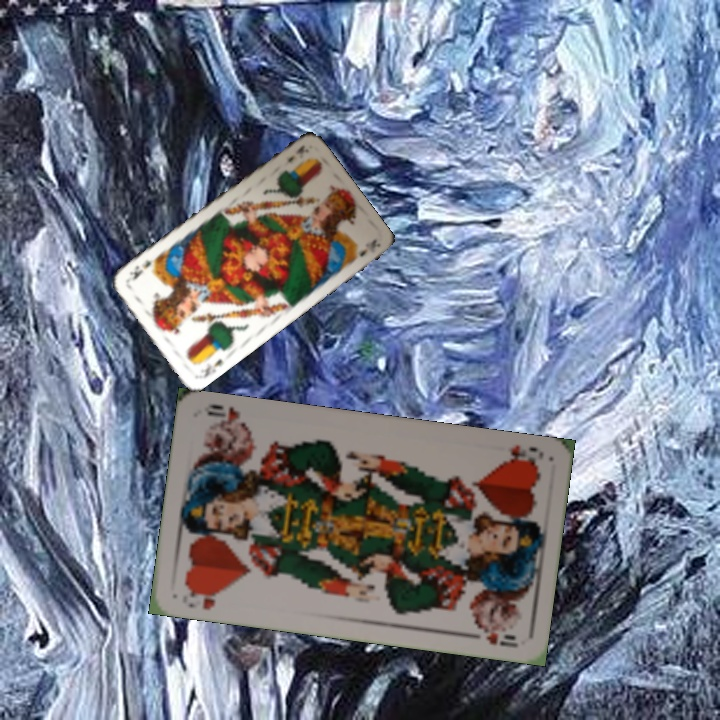EK: (195, 355, 225, 381), (283, 141, 310, 165)
HO: (499, 440, 547, 469), (180, 582, 223, 612)
